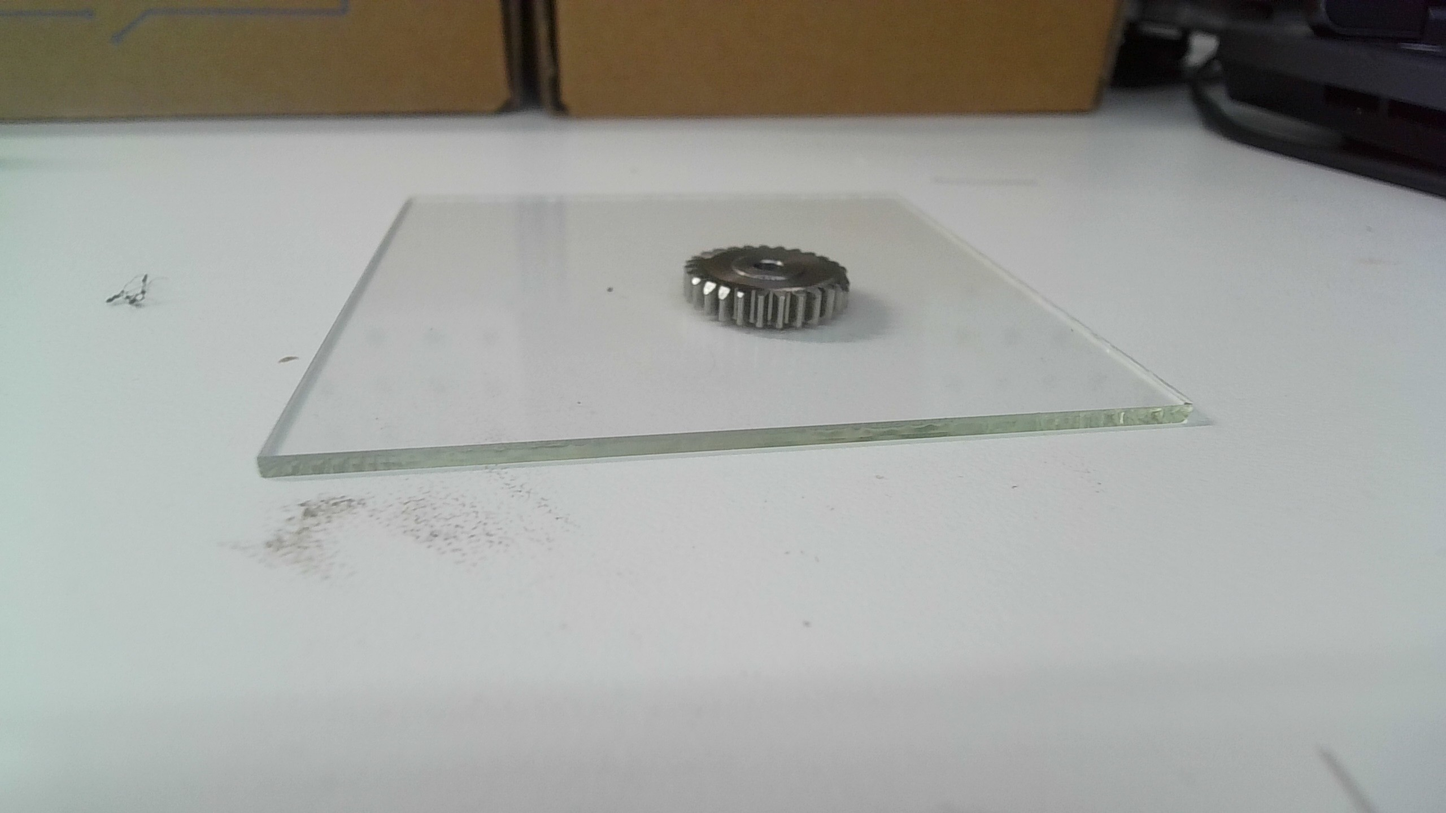gear: (680, 242, 854, 335)
